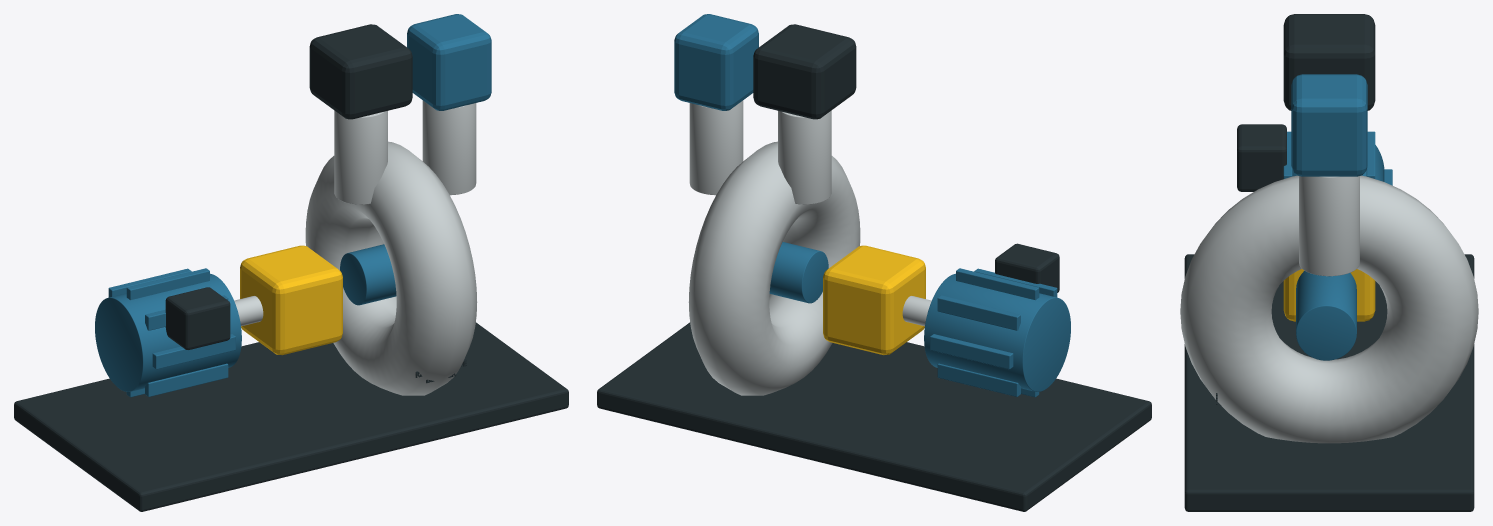
The model's file is regenerative_blower.glb.
The picture shows the model from 3 angles, left to right: view 1: azimuth 30°, elevation 25°; view 2: azimuth 150°, elevation 25°; view 3: azimuth 270°, elevation 25°; orthographic projection. The views are drawn at different scales.
Visible parts, largest first — view 1: BASE, SIDE_CHANNEL_CASING, COUPLING_GUARD, INLET_FILTER, KIN_MOTOR_SHAFT, OUTLET_SILENCER, BLOWER_INLET, BLOWER_OUTLET, KIN_MOTOR_SHAFT_JBOX, IMPELLER_HUB, KIN_MOTOR_SHAFT_FIN_5, KIN_MOTOR_SHAFT_FIN_4 (+2 smaller); view 2: BASE, SIDE_CHANNEL_CASING, KIN_MOTOR_SHAFT, COUPLING_GUARD, INLET_FILTER, OUTLET_SILENCER, BLOWER_INLET, BLOWER_OUTLET, IMPELLER_HUB, KIN_MOTOR_SHAFT_JBOX, KIN_MOTOR_SHAFT_FIN_0, KIN_MOTOR_SHAFT_FIN_1 (+3 smaller); view 3: SIDE_CHANNEL_CASING, BASE, OUTLET_SILENCER, INLET_FILTER, BLOWER_OUTLET, IMPELLER_HUB, KIN_MOTOR_SHAFT_JBOX, COUPLING_GUARD, KIN_MOTOR_SHAFT_FIN_1.
Part boxes in pixels (bbox=[...]): BASE: bbox=[14, 322, 568, 511]; SIDE_CHANNEL_CASING: bbox=[305, 141, 477, 395]; COUPLING_GUARD: bbox=[240, 245, 342, 355]; INLET_FILTER: bbox=[309, 24, 412, 119]; KIN_MOTOR_SHAFT: bbox=[95, 273, 241, 391]; OUTLET_SILENCER: bbox=[407, 14, 491, 110]; BLOWER_INLET: bbox=[334, 110, 387, 204]; BLOWER_OUTLET: bbox=[422, 100, 476, 195]; KIN_MOTOR_SHAFT_JBOX: bbox=[165, 287, 230, 349]; IMPELLER_HUB: bbox=[340, 244, 396, 305]; KIN_MOTOR_SHAFT_FIN_5: bbox=[145, 363, 228, 396]; KIN_MOTOR_SHAFT_FIN_4: bbox=[152, 334, 235, 369]; BASE: bbox=[597, 322, 1151, 511]; SIDE_CHANNEL_CASING: bbox=[688, 141, 860, 395]; KIN_MOTOR_SHAFT: bbox=[924, 273, 1070, 391]; COUPLING_GUARD: bbox=[823, 245, 925, 355]; INLET_FILTER: bbox=[753, 24, 856, 119]; OUTLET_SILENCER: bbox=[674, 14, 758, 110]; BLOWER_INLET: bbox=[778, 110, 831, 204]; BLOWER_OUTLET: bbox=[689, 100, 743, 195]; IMPELLER_HUB: bbox=[769, 242, 828, 303]; KIN_MOTOR_SHAFT_JBOX: bbox=[995, 243, 1059, 292]; KIN_MOTOR_SHAFT_FIN_0: bbox=[930, 334, 1013, 369]; KIN_MOTOR_SHAFT_FIN_1: bbox=[937, 295, 1020, 330]; SIDE_CHANNEL_CASING: bbox=[1180, 175, 1478, 443]; BASE: bbox=[1184, 254, 1474, 511]; OUTLET_SILENCER: bbox=[1291, 74, 1367, 176]; INLET_FILTER: bbox=[1283, 14, 1375, 110]; BLOWER_OUTLET: bbox=[1299, 176, 1359, 276]; IMPELLER_HUB: bbox=[1296, 271, 1356, 360]; KIN_MOTOR_SHAFT_JBOX: bbox=[1237, 124, 1286, 191]; COUPLING_GUARD: bbox=[1283, 269, 1375, 321]; KIN_MOTOR_SHAFT_FIN_1: bbox=[1366, 131, 1375, 178].
Size of the model in its own units: 1.85 by 1.46 by 0.98.
